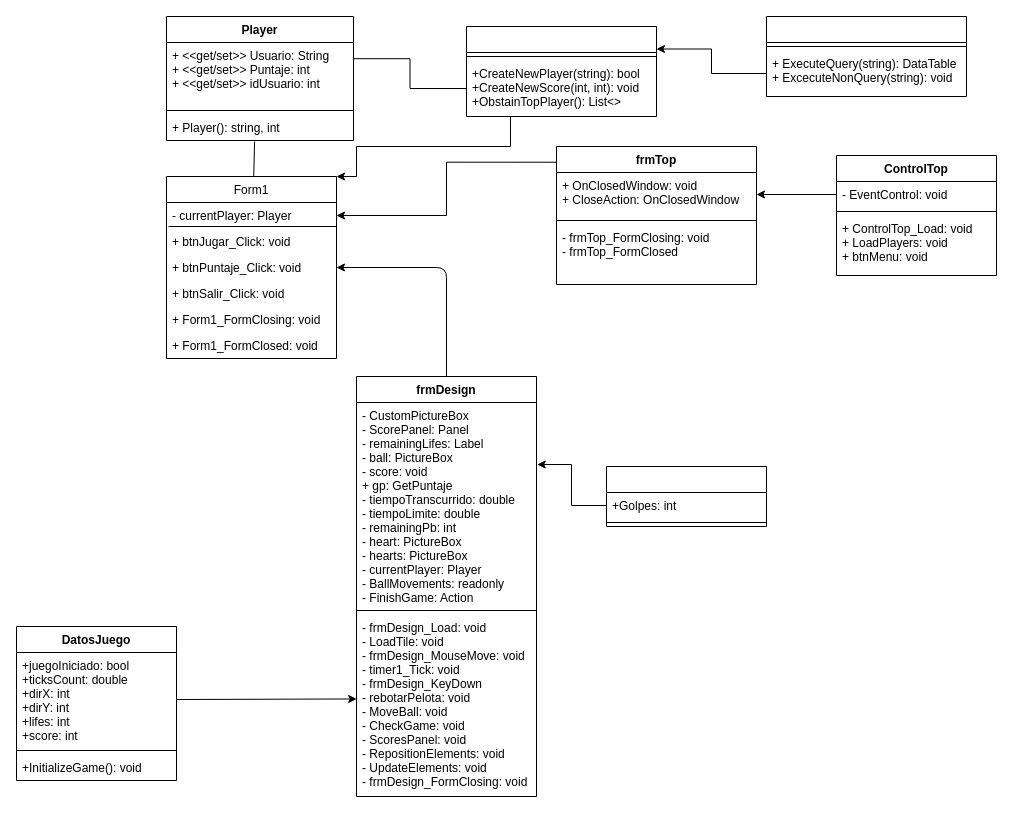
This 1013x813 diagram has some shape labels left out. Here are the shapes that lost their labels. From the top down, the box of each, then its label:
(466, 26, 656, 116): PlayerDAO
(766, 16, 966, 96): Connection
(606, 466, 766, 526): CustomPictureBox
